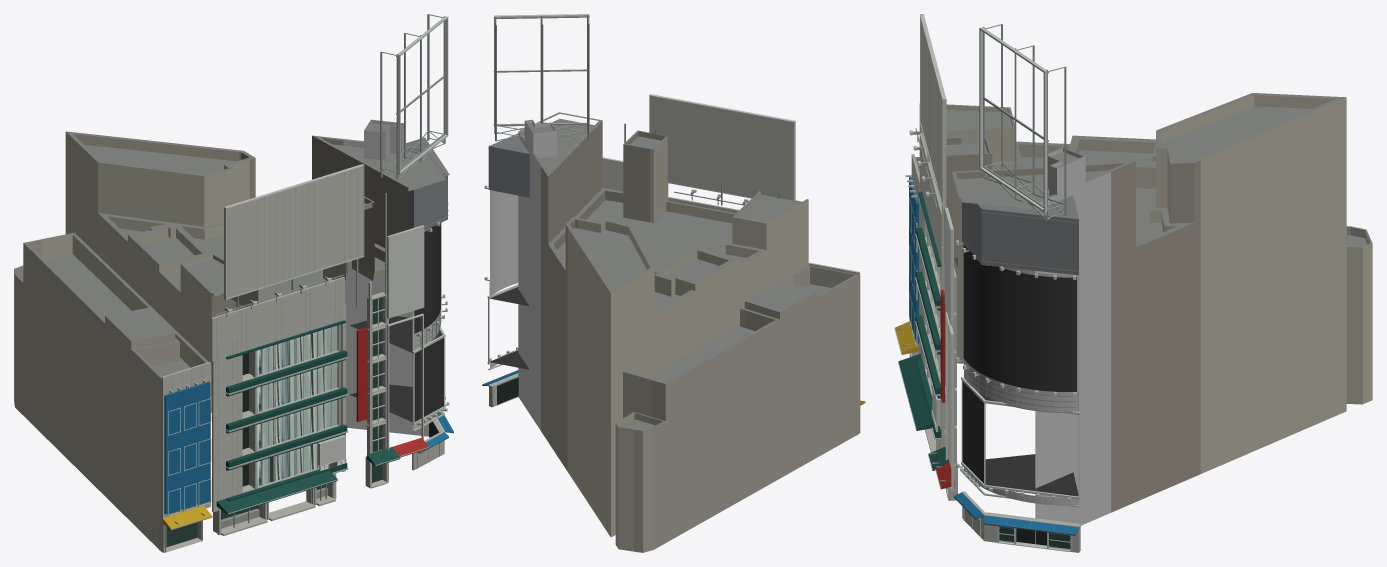
Rendered from west-block.glb.
3 renders of one model, left to right at view 1: azimuth 30°, elevation 25°; view 2: azimuth 150°, elevation 25°; view 3: azimuth 270°, elevation 25°, orthographic. The views are drawn at different scales.
Parts seen in each view (by area): view 1: west_roof, d24_exact_west-block_0, west_curtains, west_wall_corner_body, west_screen_back, west_frame, west_tile_joint, west_shop_glass, west_housing, west_recess; view 2: west_roof, west_wall_corner_body, d24_exact_west-block_0, west_frame, west_housing, west_screen_back; view 3: west_roof, west_wall_corner_body, west_screen_back, d24_exact_west-block_0, west_housing, west_frame, west_tile_joint.
Part boxes in pixels (x1=…): west_roof: x1=14, y1=119, x2=453, y2=552; d24_exact_west-block_0: x1=165, y1=16, x2=449, y2=552; west_curtains: x1=257, y1=325, x2=337, y2=486; west_wall_corner_body: x1=341, y1=120, x2=440, y2=436; west_screen_back: x1=350, y1=223, x2=443, y2=421; west_frame: x1=169, y1=14, x2=448, y2=528; west_tile_joint: x1=163, y1=168, x2=441, y2=511; west_shop_glass: x1=164, y1=297, x2=382, y2=547; west_housing: x1=406, y1=137, x2=447, y2=230; west_recess: x1=242, y1=353, x2=438, y2=486; west_roof: x1=482, y1=96, x2=865, y2=552; west_wall_corner_body: x1=490, y1=120, x2=556, y2=430; d24_exact_west-block_0: x1=484, y1=14, x2=865, y2=405; west_frame: x1=486, y1=15, x2=779, y2=379; west_housing: x1=488, y1=122, x2=546, y2=197; west_screen_back: x1=489, y1=287, x2=529, y2=369; west_roof: x1=895, y1=20, x2=1372, y2=552; west_wall_corner_body: x1=964, y1=148, x2=1110, y2=544; west_screen_back: x1=962, y1=244, x2=1078, y2=496; d24_exact_west-block_0: x1=894, y1=14, x2=1080, y2=551; west_housing: x1=962, y1=195, x2=1078, y2=275; west_frame: x1=896, y1=24, x2=1078, y2=549; west_tile_joint: x1=917, y1=19, x2=1078, y2=412.
Bounding box in the file's own units: 34.72 × 40.01 × 35.55.
Materials: 13 (1 with a texture image).
